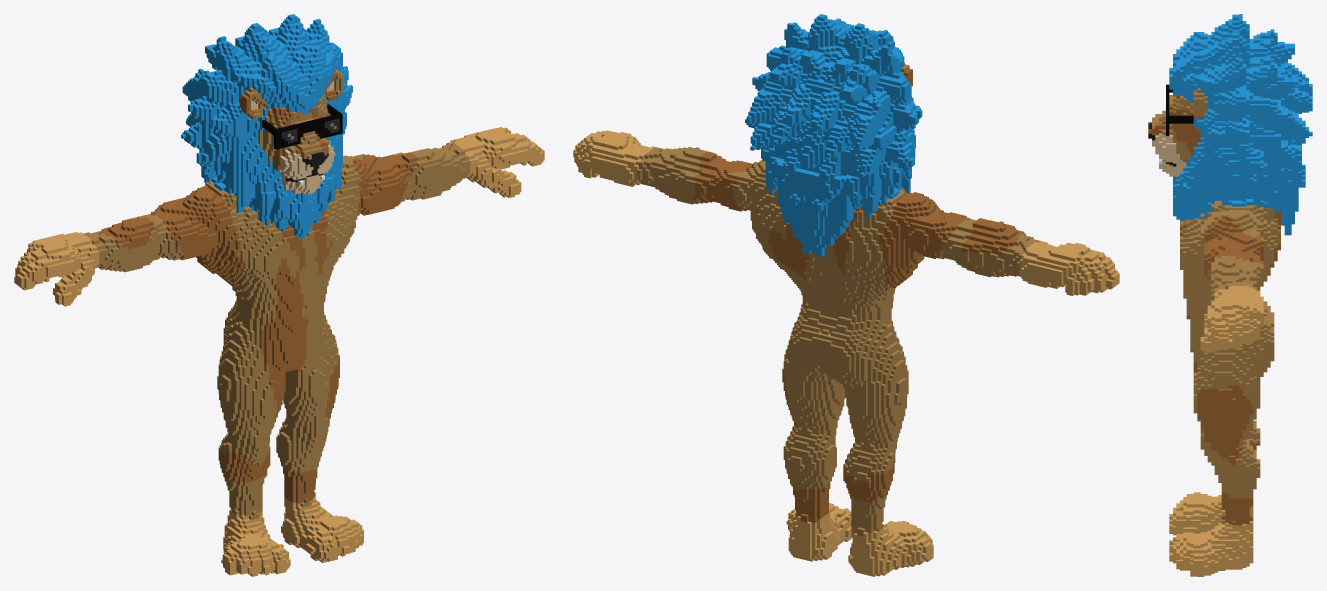
The model's file is 805-aLu6D0xg.glb.
3 views of the same model, side by side, from view 1: azimuth 30°, elevation 25°; view 2: azimuth 150°, elevation 25°; view 3: azimuth 270°, elevation 25° (orthographic). The views are drawn at different scales.
Visible parts, largest first — view 1: standard; view 2: standard; view 3: standard.
Boxes of the visible parts, x1,y1,x2,y2 form: standard: (14,14,544,576); standard: (573,14,1119,576); standard: (1148,14,1312,576).
Bounding box in the file's own units: 17.2 × 16.5 × 4.7.
Materials: 4 (4 with a texture image).
